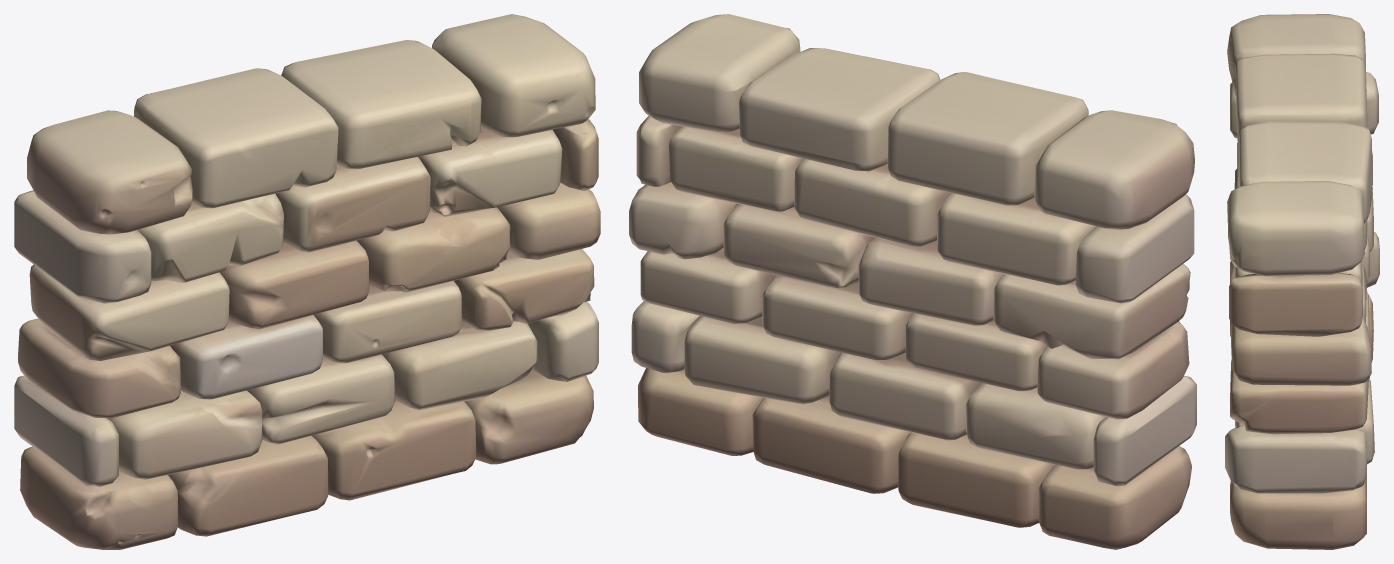
Rendered from 019dfcc8-6445-779a-9118-4fbd08738598.glb.
The picture shows the model from 3 angles, left to right: view 1: azimuth 30°, elevation 25°; view 2: azimuth 150°, elevation 25°; view 3: azimuth 270°, elevation 25°; orthographic projection. The views are drawn at different scales.
Visible parts, largest first — view 1: tripo_node_6a8c4b05-4f50-4e27-a397-80d102962814; view 2: tripo_node_6a8c4b05-4f50-4e27-a397-80d102962814; view 3: tripo_node_6a8c4b05-4f50-4e27-a397-80d102962814.
Boxes of the visible parts, x1,y1,x2,y2 form: tripo_node_6a8c4b05-4f50-4e27-a397-80d102962814: (14, 14, 600, 549); tripo_node_6a8c4b05-4f50-4e27-a397-80d102962814: (629, 14, 1196, 549); tripo_node_6a8c4b05-4f50-4e27-a397-80d102962814: (1225, 14, 1379, 549).
Size of the model in its own units: 0.998 by 0.7363 by 0.3027.
Materials: 1 (1 with a texture image).
